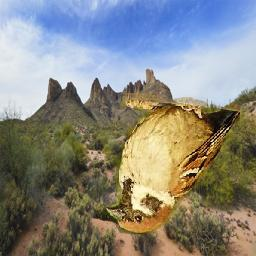Sparrow: (104, 94, 241, 235)
